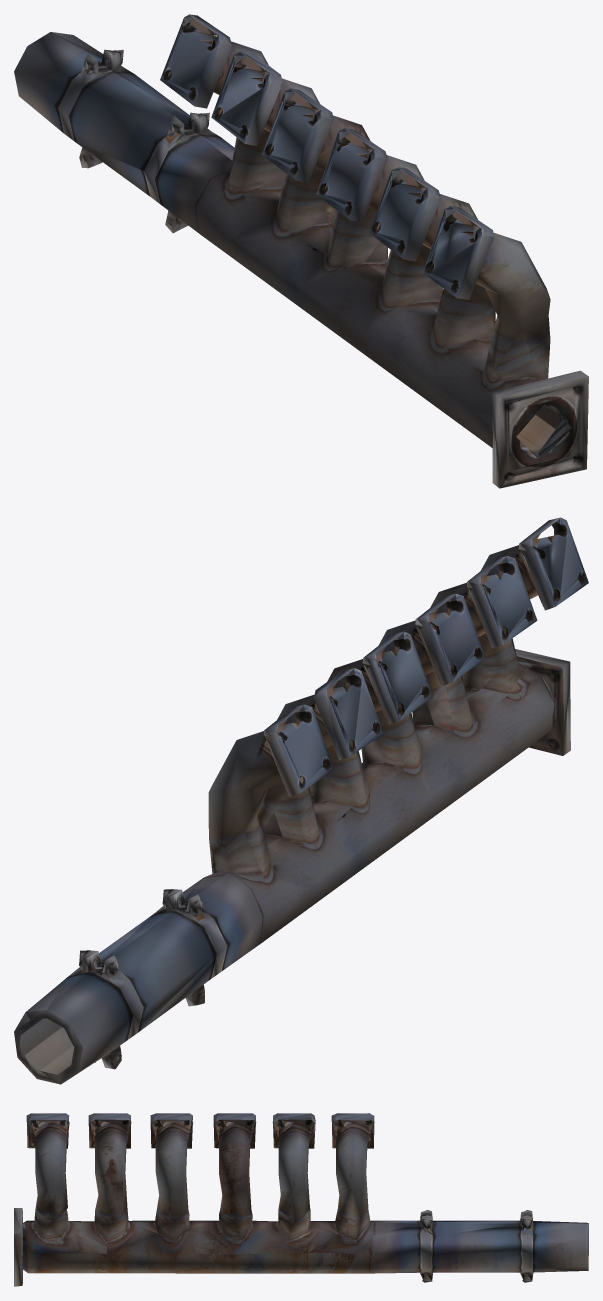
The model's file is exhaust.glb.
3 views of the same model, one above another, from view 1: azimuth 30°, elevation 25°; view 2: azimuth 150°, elevation 25°; view 3: azimuth 270°, elevation 25° (orthographic). The views are drawn at different scales.
Visible parts, largest first — view 1: tripo_node_e1fc1731-9fc2-47bf-ba10-817a5; view 2: tripo_node_e1fc1731-9fc2-47bf-ba10-817a5; view 3: tripo_node_e1fc1731-9fc2-47bf-ba10-817a5.
Part boxes in pixels (box(x1,y1,x2,y2)): tripo_node_e1fc1731-9fc2-47bf-ba10-817a5: box(14, 14, 588, 488); tripo_node_e1fc1731-9fc2-47bf-ba10-817a5: box(14, 517, 588, 1084); tripo_node_e1fc1731-9fc2-47bf-ba10-817a5: box(14, 1113, 588, 1286).
Bounding box in the file's own units: 0.1404 × 0.2937 × 0.9997.
Materials: 1 (1 with a texture image).
